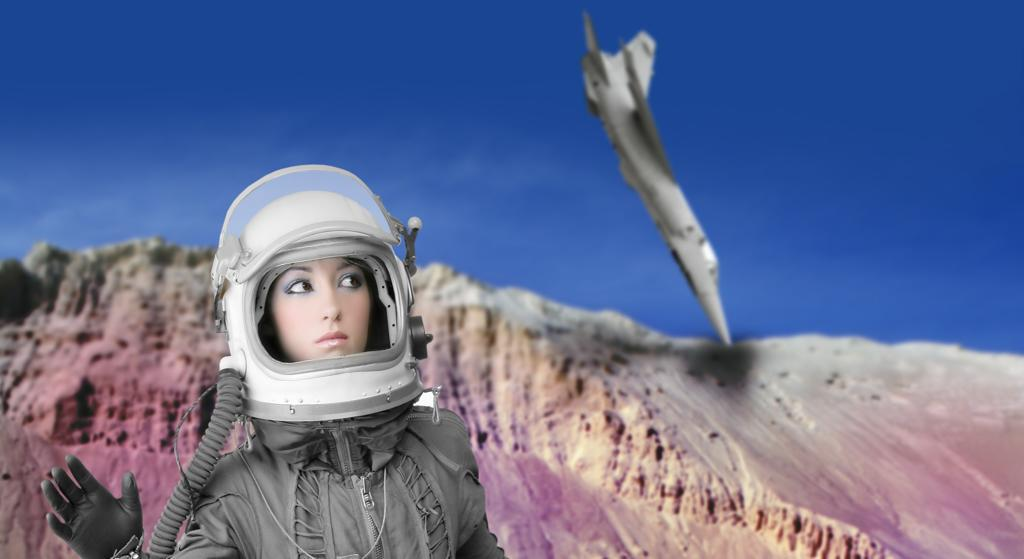face: (279, 227, 371, 363)
